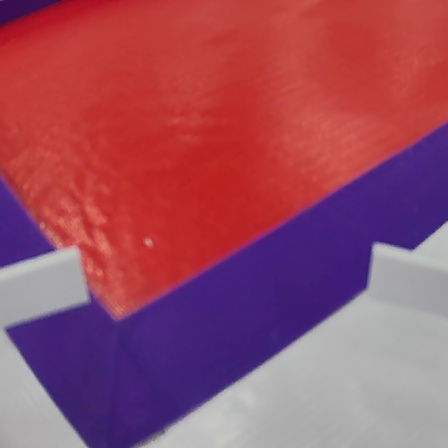red_aim: (1, 3, 448, 446)
